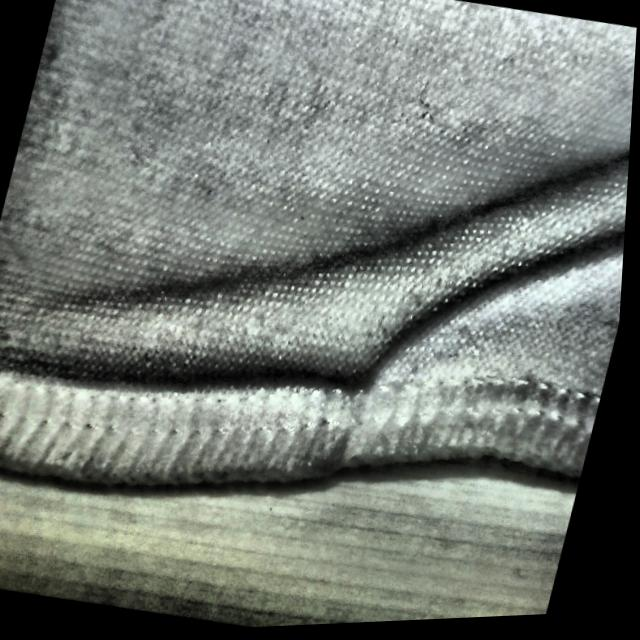seam: (183, 208, 509, 525)
